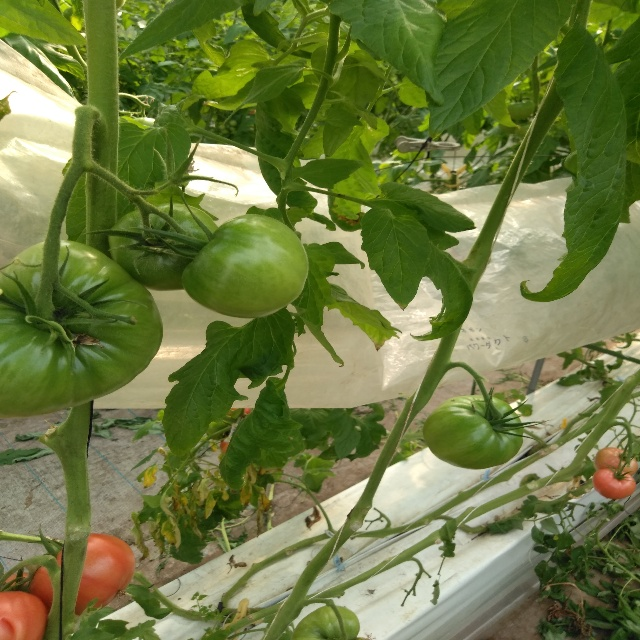b_fully_ripened: (26, 532, 135, 618), (0, 591, 49, 640)
b_green: (0, 239, 164, 418), (180, 214, 309, 318), (107, 202, 219, 292), (423, 395, 524, 470), (291, 605, 360, 640)
b_half_ripened: (593, 447, 638, 475), (593, 469, 635, 499)
